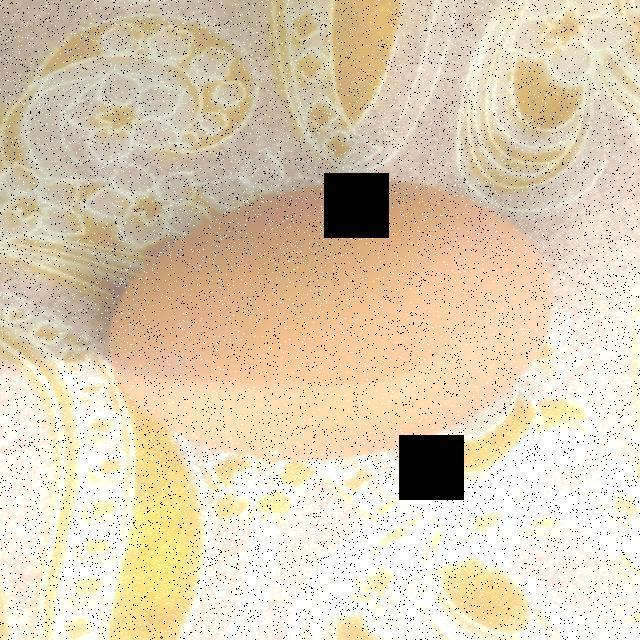egg: (99, 174, 557, 472)
